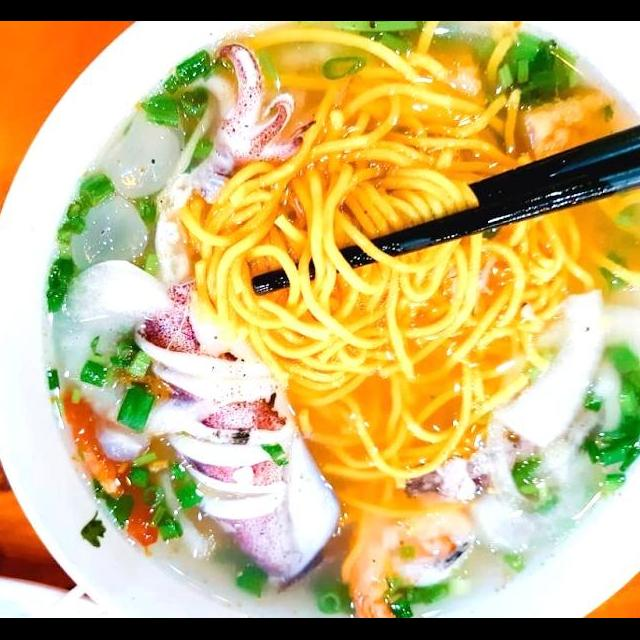muc: (130, 41, 347, 594)
